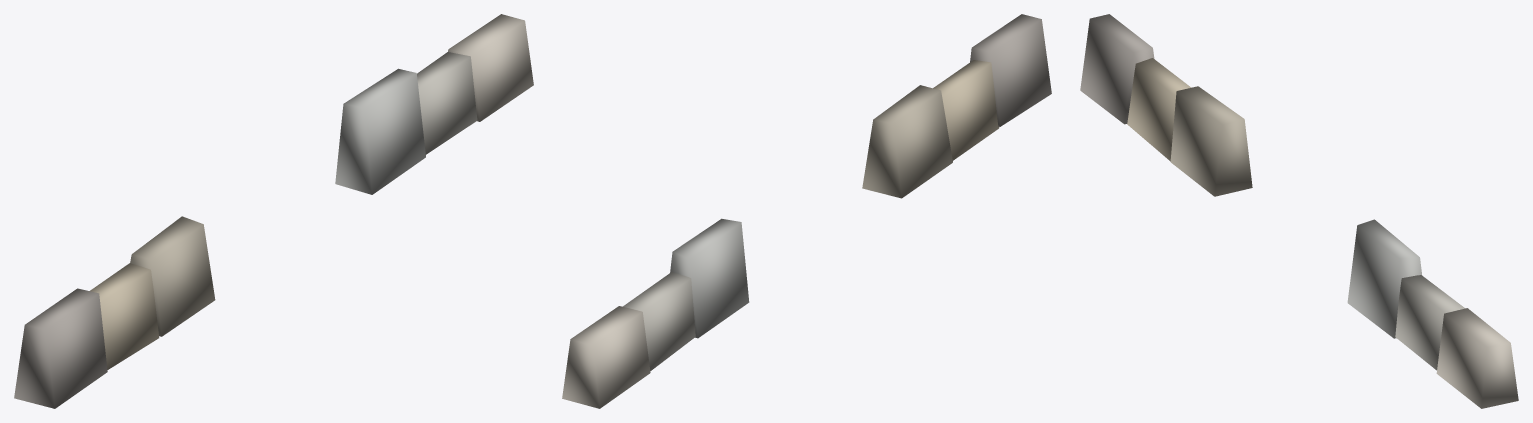
Rendered from farm_22_17_far.glb.
The picture shows the model from 3 angles, left to right: view 1: azimuth 30°, elevation 25°; view 2: azimuth 210°, elevation 25°; view 3: azimuth 270°, elevation 25°; orthographic projection. The views are drawn at different scales.
Parts seen in each view (by area): view 1: geometry_0; view 2: geometry_0; view 3: geometry_0.
Boxes of the visible parts, bbox=[...] form: geometry_0: bbox=[14, 14, 533, 408]; geometry_0: bbox=[562, 14, 1051, 408]; geometry_0: bbox=[1080, 14, 1518, 408].
Bounding box in the file's own units: 12.38 × 1.41 × 7.13.
